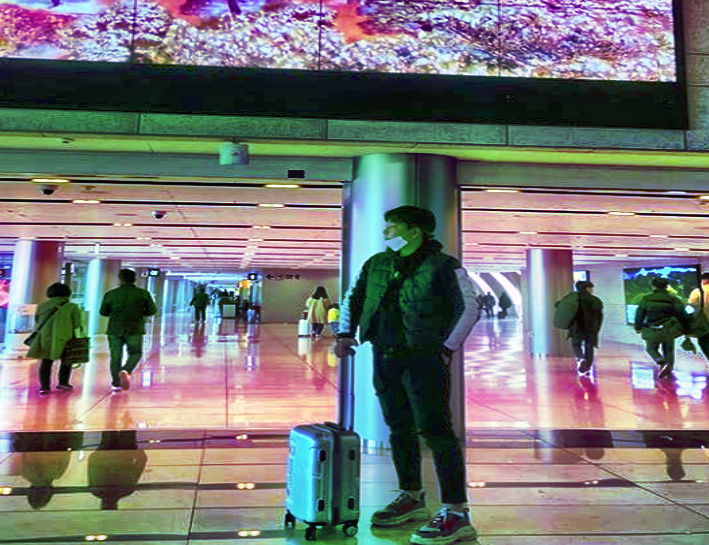mask_weared_incorrect: (378, 203, 433, 256)
